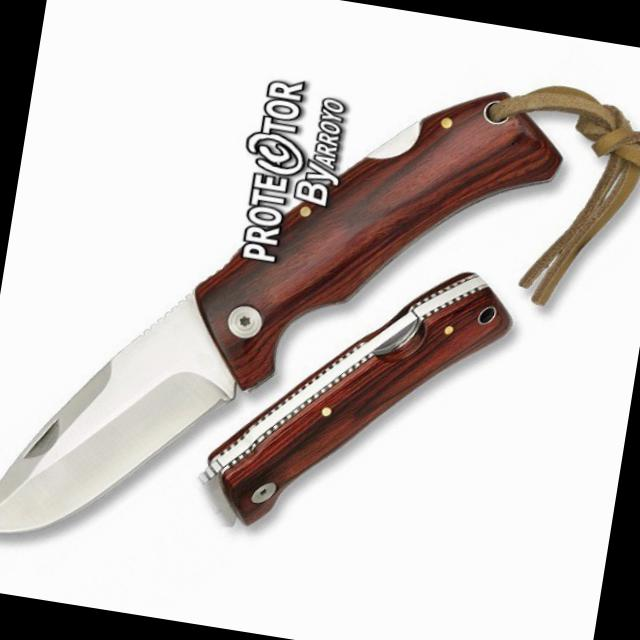knife: (0, 255, 266, 579)
